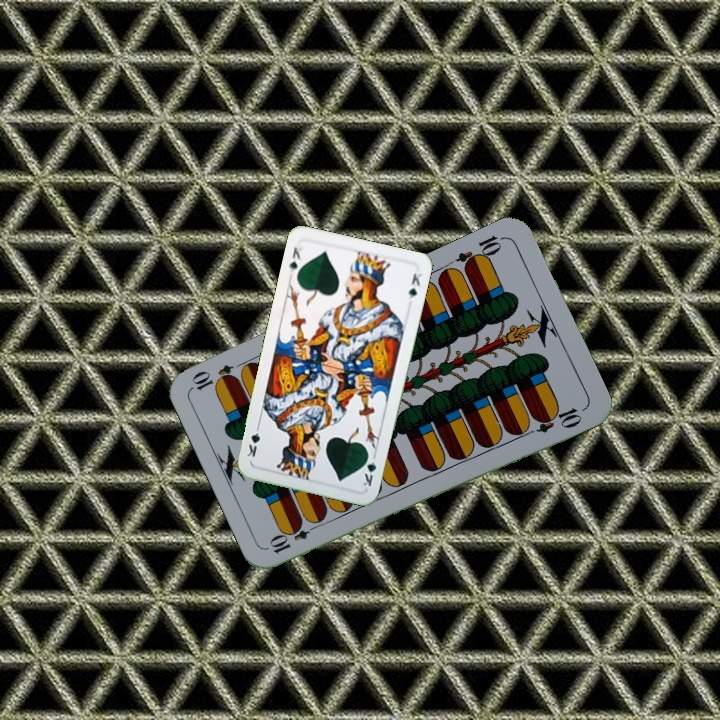E10: (452, 231, 508, 273), (266, 518, 322, 556)
GK: (359, 449, 379, 490), (285, 242, 305, 275)
